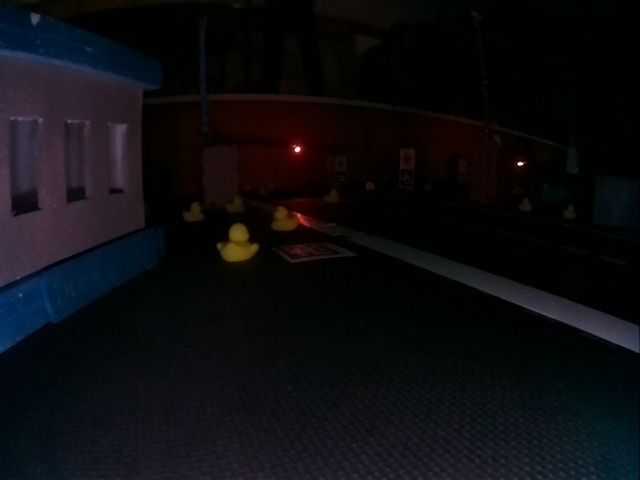Duckie: (217, 227, 256, 258), (271, 207, 298, 230), (183, 206, 205, 222), (226, 197, 243, 212), (564, 204, 575, 218), (327, 190, 338, 203), (521, 198, 531, 210)
Intersection sign: (400, 153, 414, 168), (336, 158, 347, 169)
QR code: (275, 241, 357, 262), (400, 171, 414, 187), (337, 174, 347, 184)
Traffic light: (290, 145, 302, 154)
